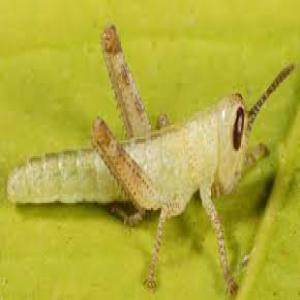locust: (18, 51, 256, 230)
